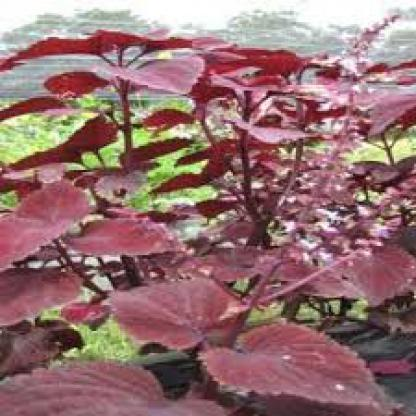Bunga Coleus: (31, 36, 347, 395)
